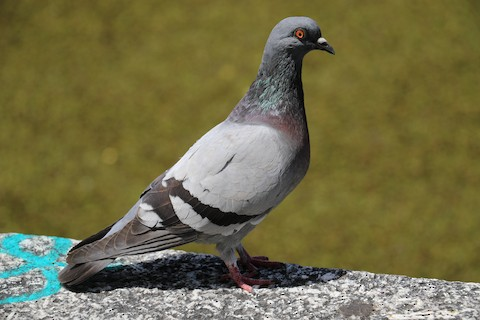pigeon: (57, 13, 344, 298)
